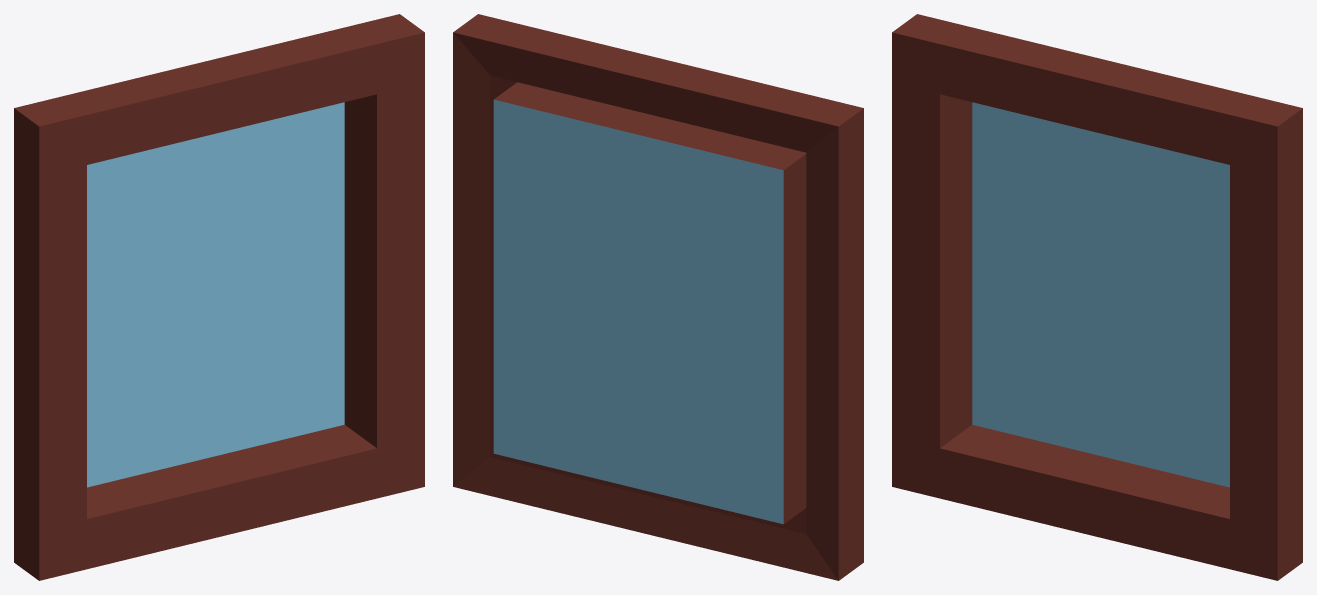
File: Ventana pintada.fbx
The picture shows the model from 3 angles, left to right: view 1: azimuth 30°, elevation 25°; view 2: azimuth 150°, elevation 25°; view 3: azimuth 330°, elevation 25°; orthographic projection.
Visible parts, largest first — view 1: Ventana; view 2: Ventana; view 3: Ventana.
Boxes of the visible parts, left/top/right/bottom form: Ventana: left=14, top=14, right=424, bottom=580; Ventana: left=453, top=14, right=863, bottom=580; Ventana: left=892, top=14, right=1302, bottom=580.
Size of the model in its own units: 271 by 304 by 39.31.
